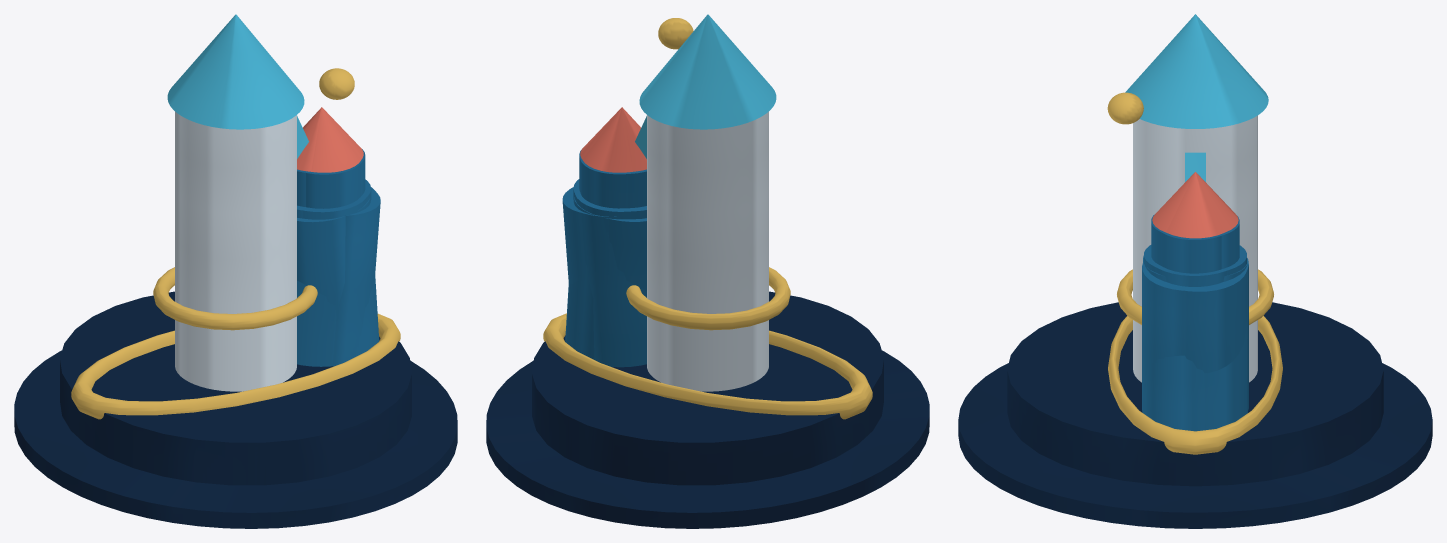
File: 1169_海底两万里_海底岩洞.glb
3 views of the same model, side by side, from view 1: azimuth 30°, elevation 25°; view 2: azimuth 150°, elevation 25°; view 3: azimuth 270°, elevation 25° (orthographic).
Parts seen in each view (by area): view 1: card_1169; view 2: card_1169; view 3: card_1169.
Part boxes in pixels (box(x1,y1,x2,y2)): card_1169: box(14, 14, 457, 528); card_1169: box(486, 14, 929, 528); card_1169: box(958, 14, 1432, 528).
Bounding box in the file's own units: 0.9443 × 1 × 1.02.
